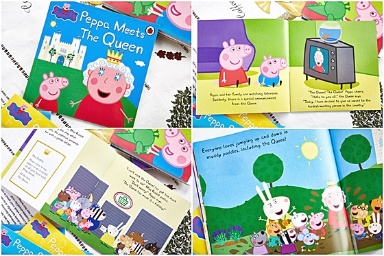Peppa: (215, 39, 254, 88), (33, 72, 68, 112)
